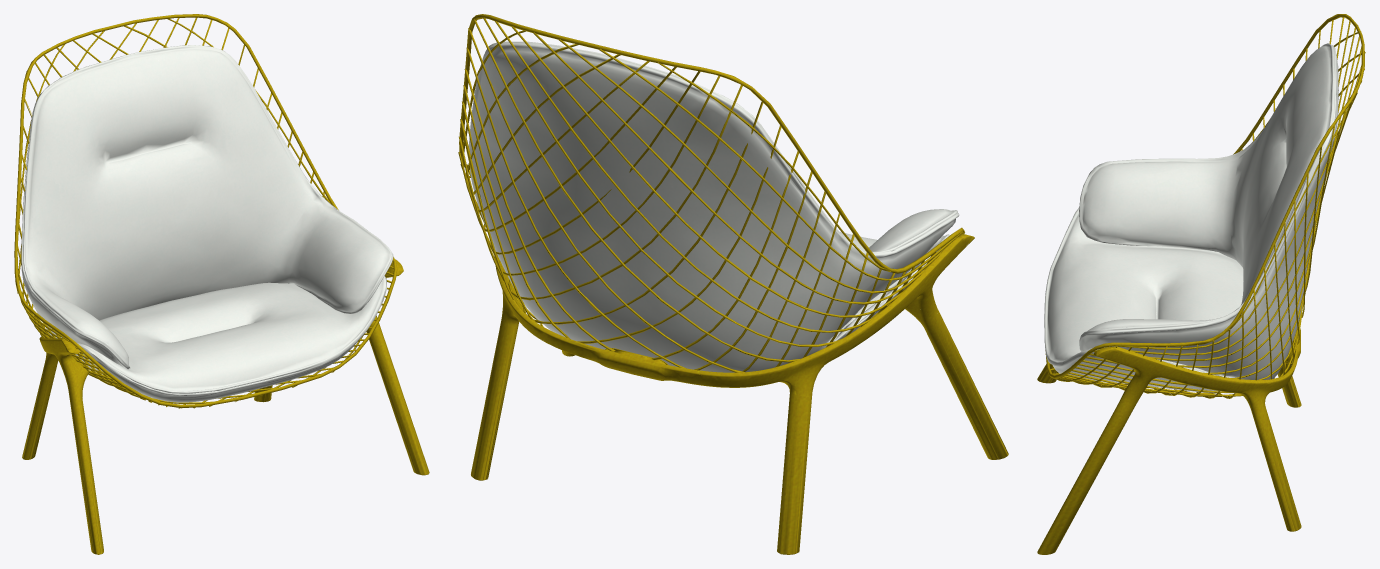
File: cadeira2.glb
3 renders of one model, left to right at view 1: azimuth 30°, elevation 25°; view 2: azimuth 150°, elevation 25°; view 3: azimuth 270°, elevation 25°, orthographic. The views are drawn at different scales.
Visible parts, largest first — view 1: root; view 2: root; view 3: root.
Boxes of the visible parts, x1,y1,x2,y2 form: root: [14, 14, 429, 554]; root: [458, 14, 1008, 554]; root: [1037, 14, 1365, 554].
Size of the model in its own units: 0.8883 by 0.9607 by 0.6935.
Materials: 2 (2 with a texture image).
